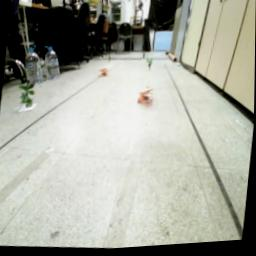herb: (16, 81, 38, 112), (146, 60, 155, 72)
wild: (137, 90, 155, 109), (98, 69, 110, 80)
